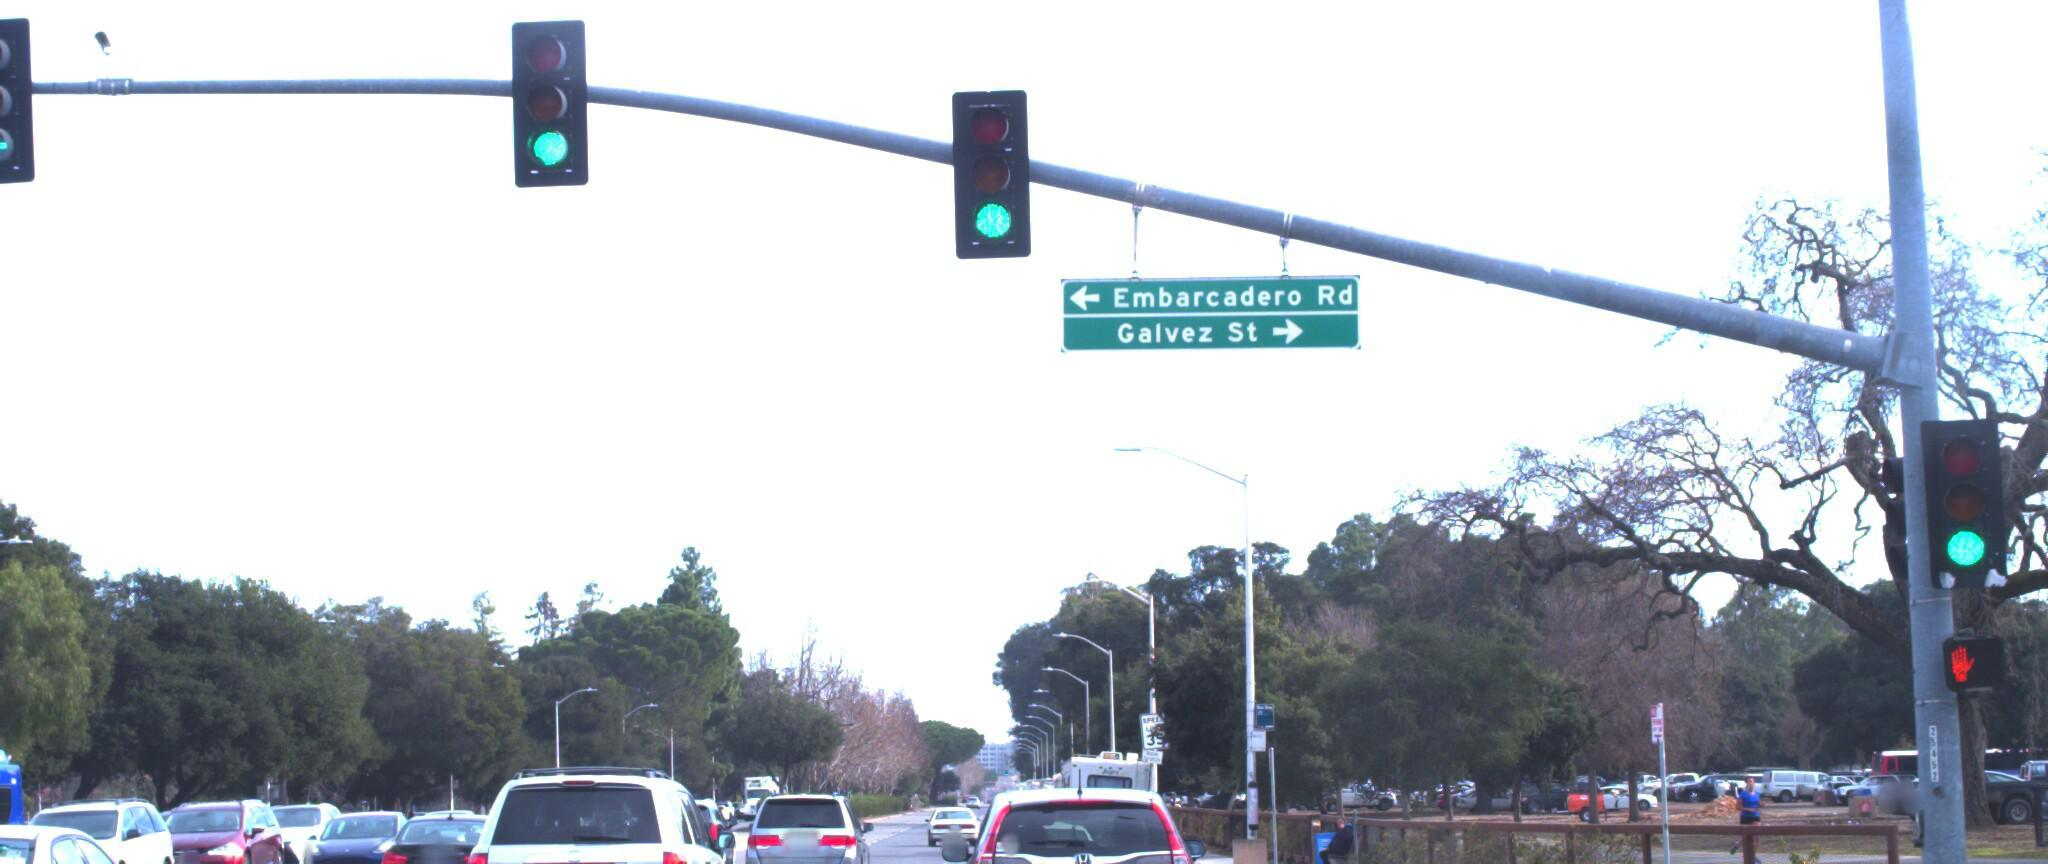bus: (0, 727, 31, 864)
car: (449, 750, 742, 864), (933, 760, 1219, 864), (357, 783, 552, 864), (106, 788, 287, 864), (731, 769, 871, 864), (0, 805, 208, 864), (0, 809, 37, 864)
